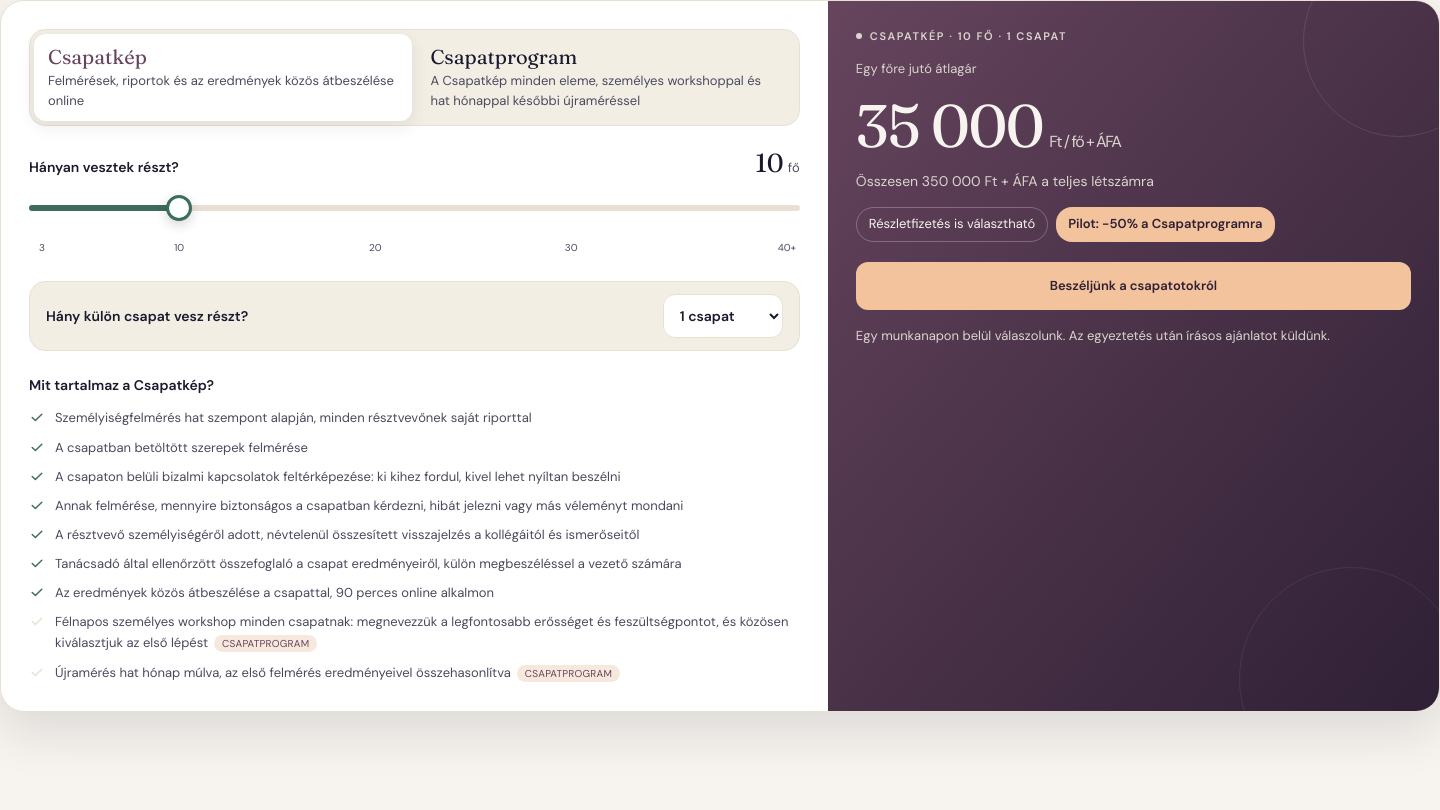
Test: TeamPricingConfigurator › a Csapatprogramra váltva az ár és a tartalom-lista frissül
The width and height of the screenshot is (1440, 810).
Click the button "Csapatprogram" at (606, 78), box x1=416 y1=34 x2=795 y2=121
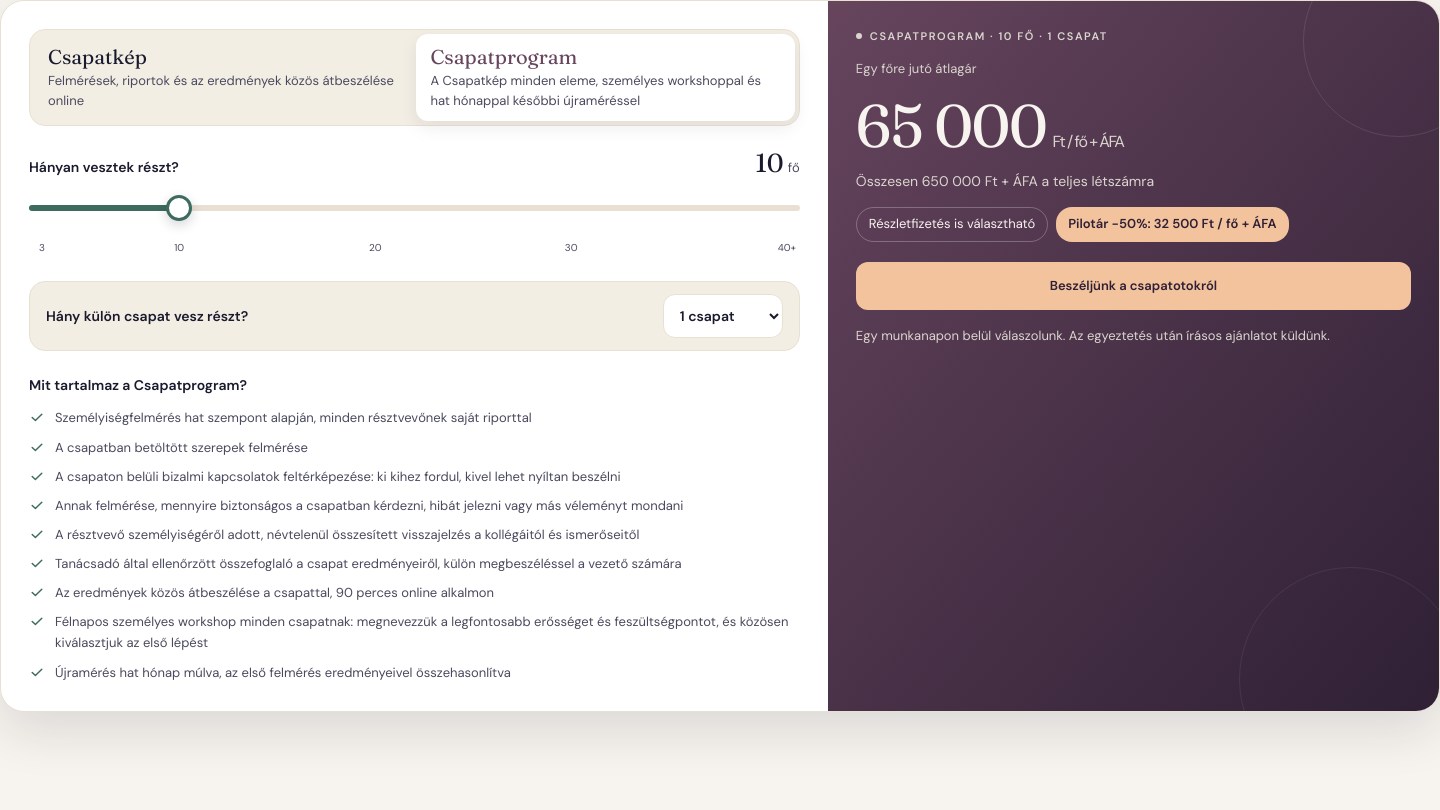
Result: the heading "Mit tartalmaz a Csapatprogram?" is shown at x1=29 y1=376 x2=247 y2=394
